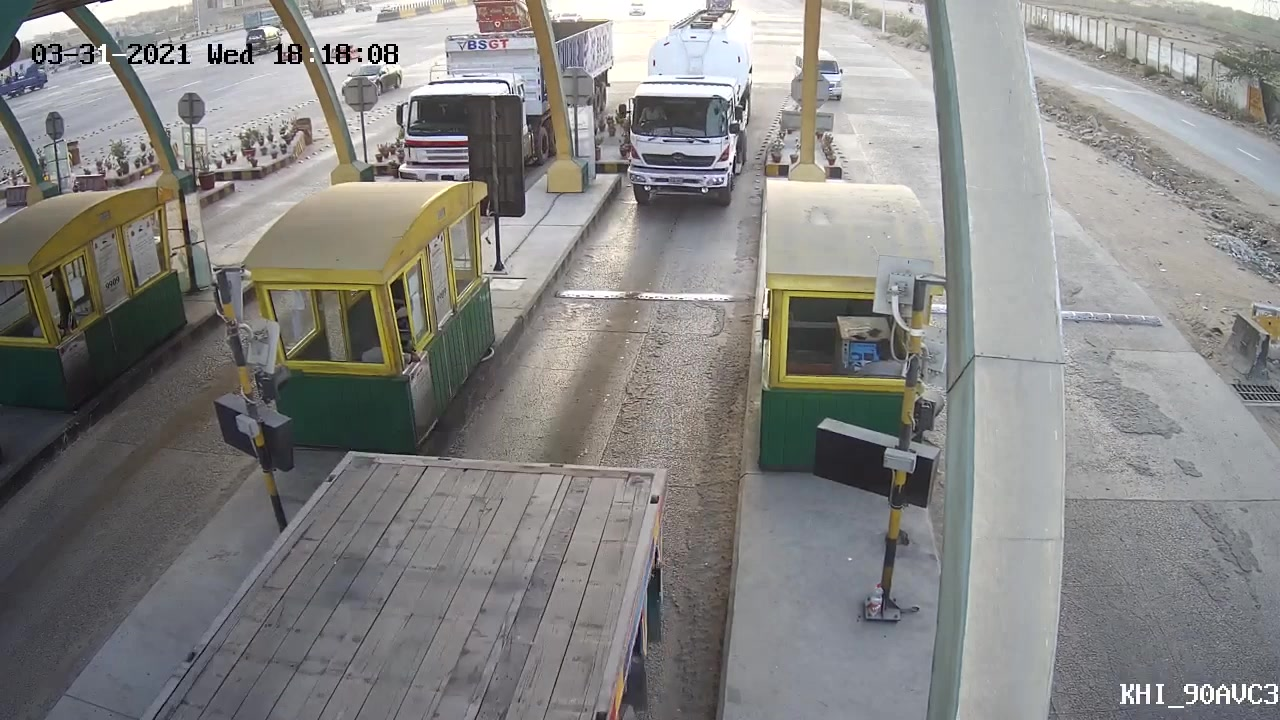F6: (606, 2, 758, 221)
